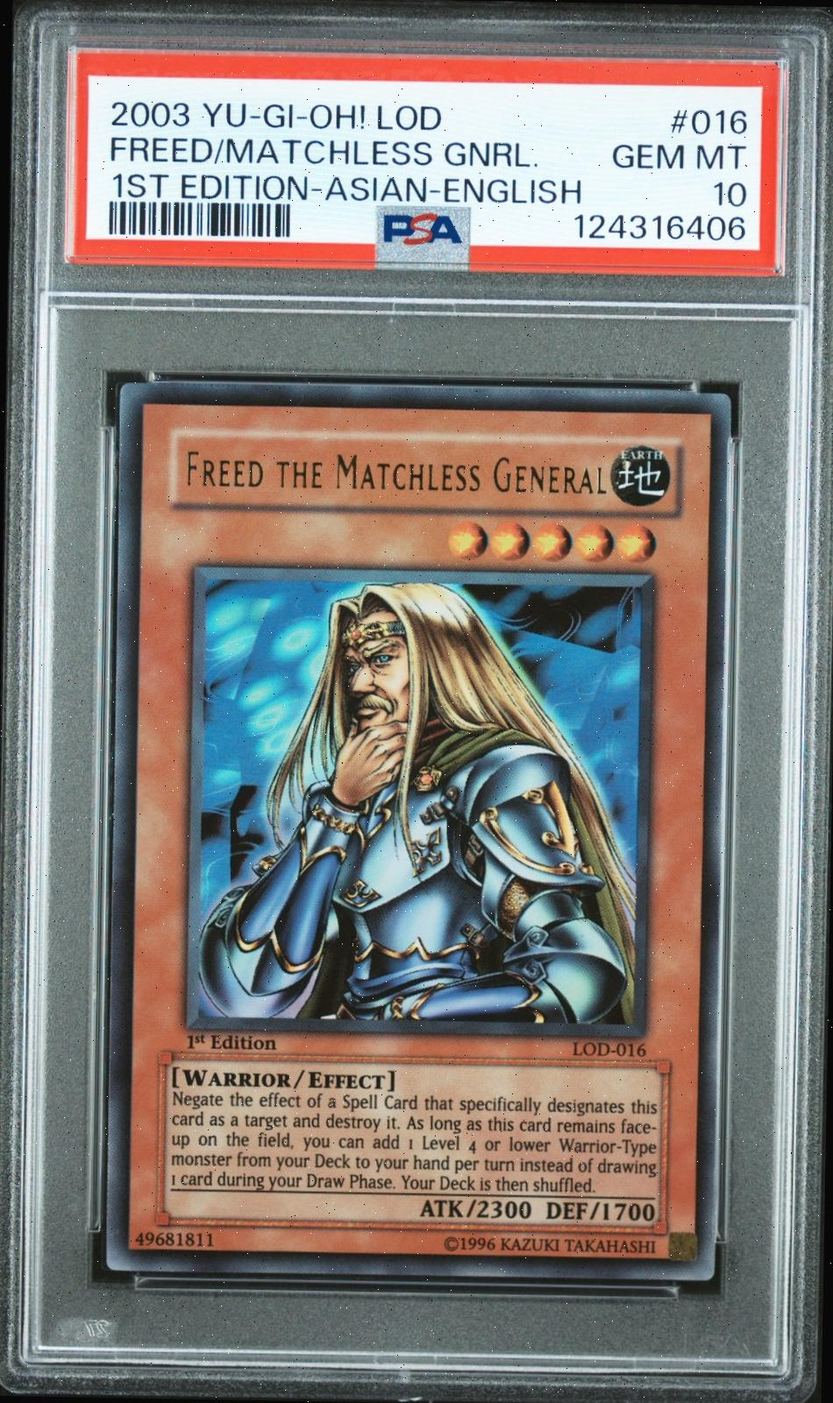card-2UtV: (105, 382, 732, 1281)
